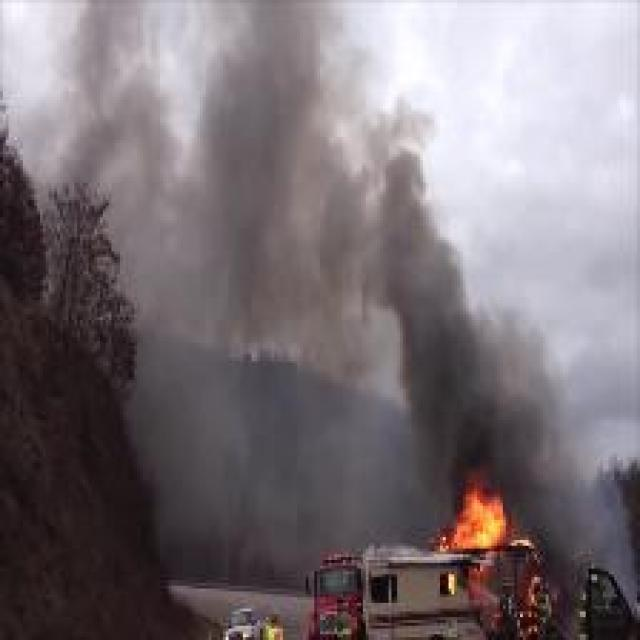Fire: (450, 487, 507, 547)
